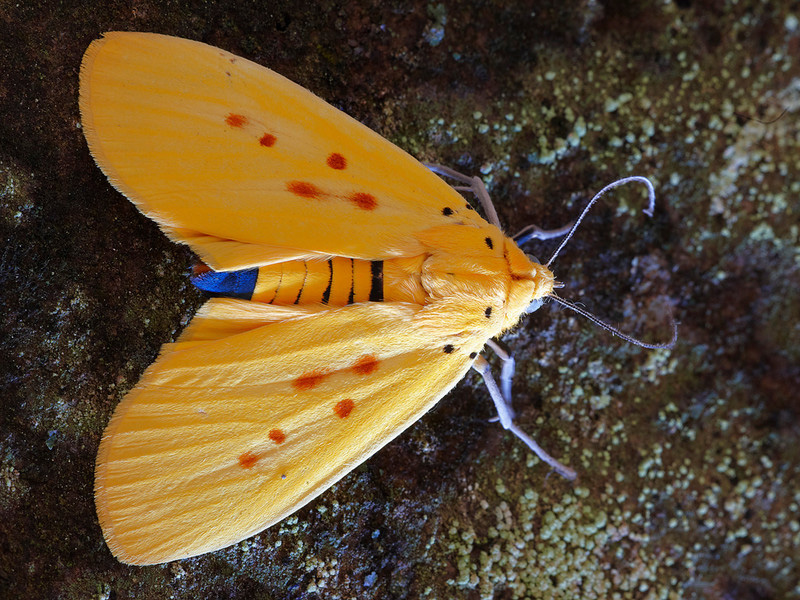Agape chloropyga: (76, 29, 677, 569)
moth: (74, 27, 675, 567)
